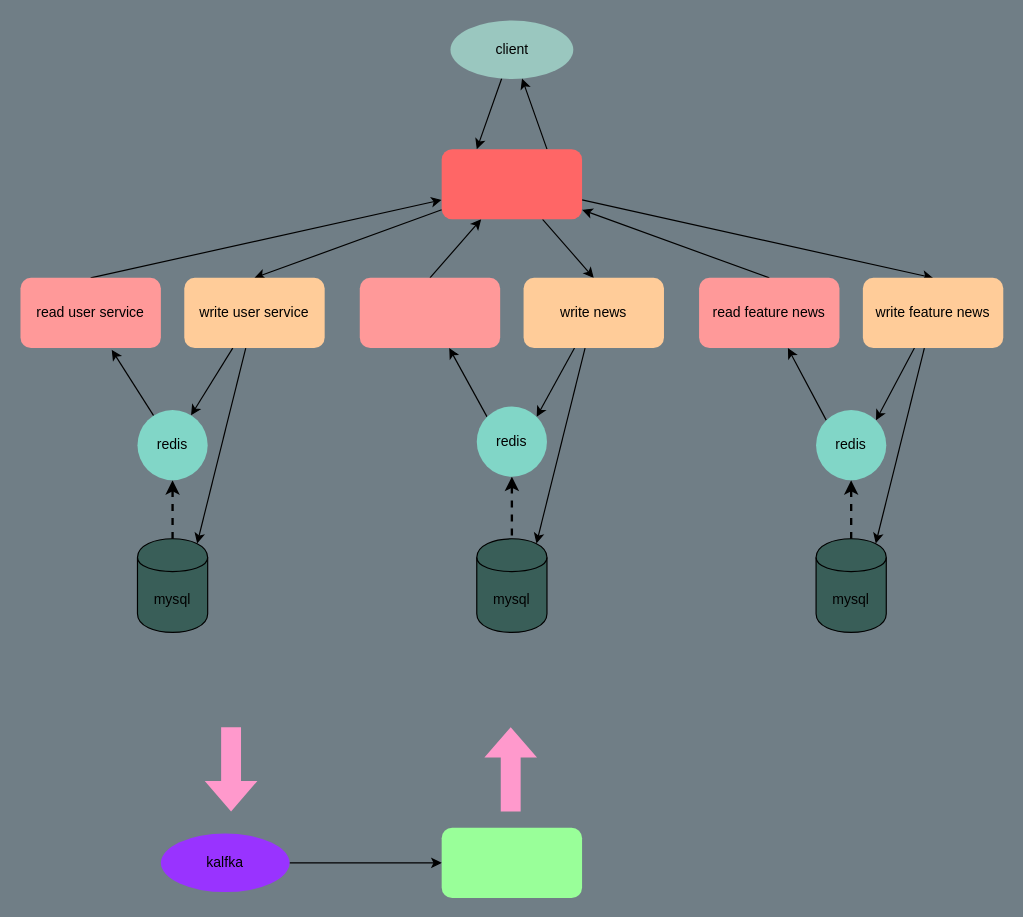
Some shapes in this 1023 by 917 pixel diagram are drawn without their labels. Here are the shapes that lost their labels. From the top down, the centre of each, then its label:
At [511,184]: "API service".
At [429,312]: "read news".
At [511,862]: "log process".
